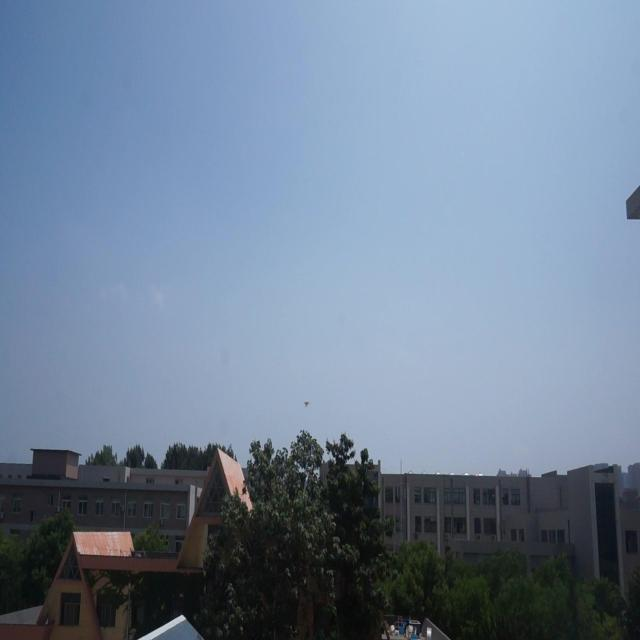drone: (302, 396, 314, 411)
